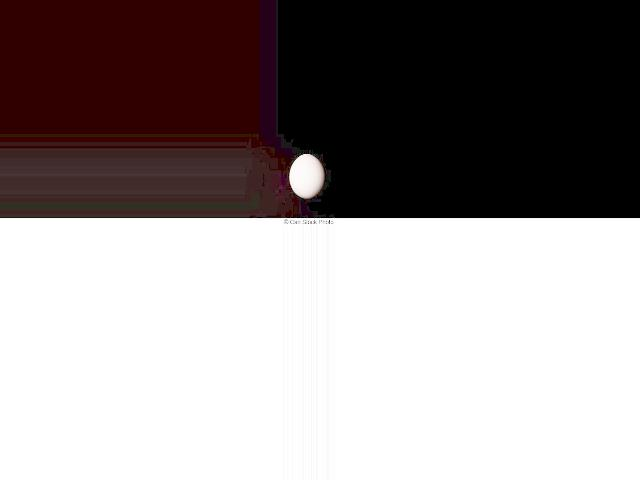egg: (290, 154, 324, 199)
